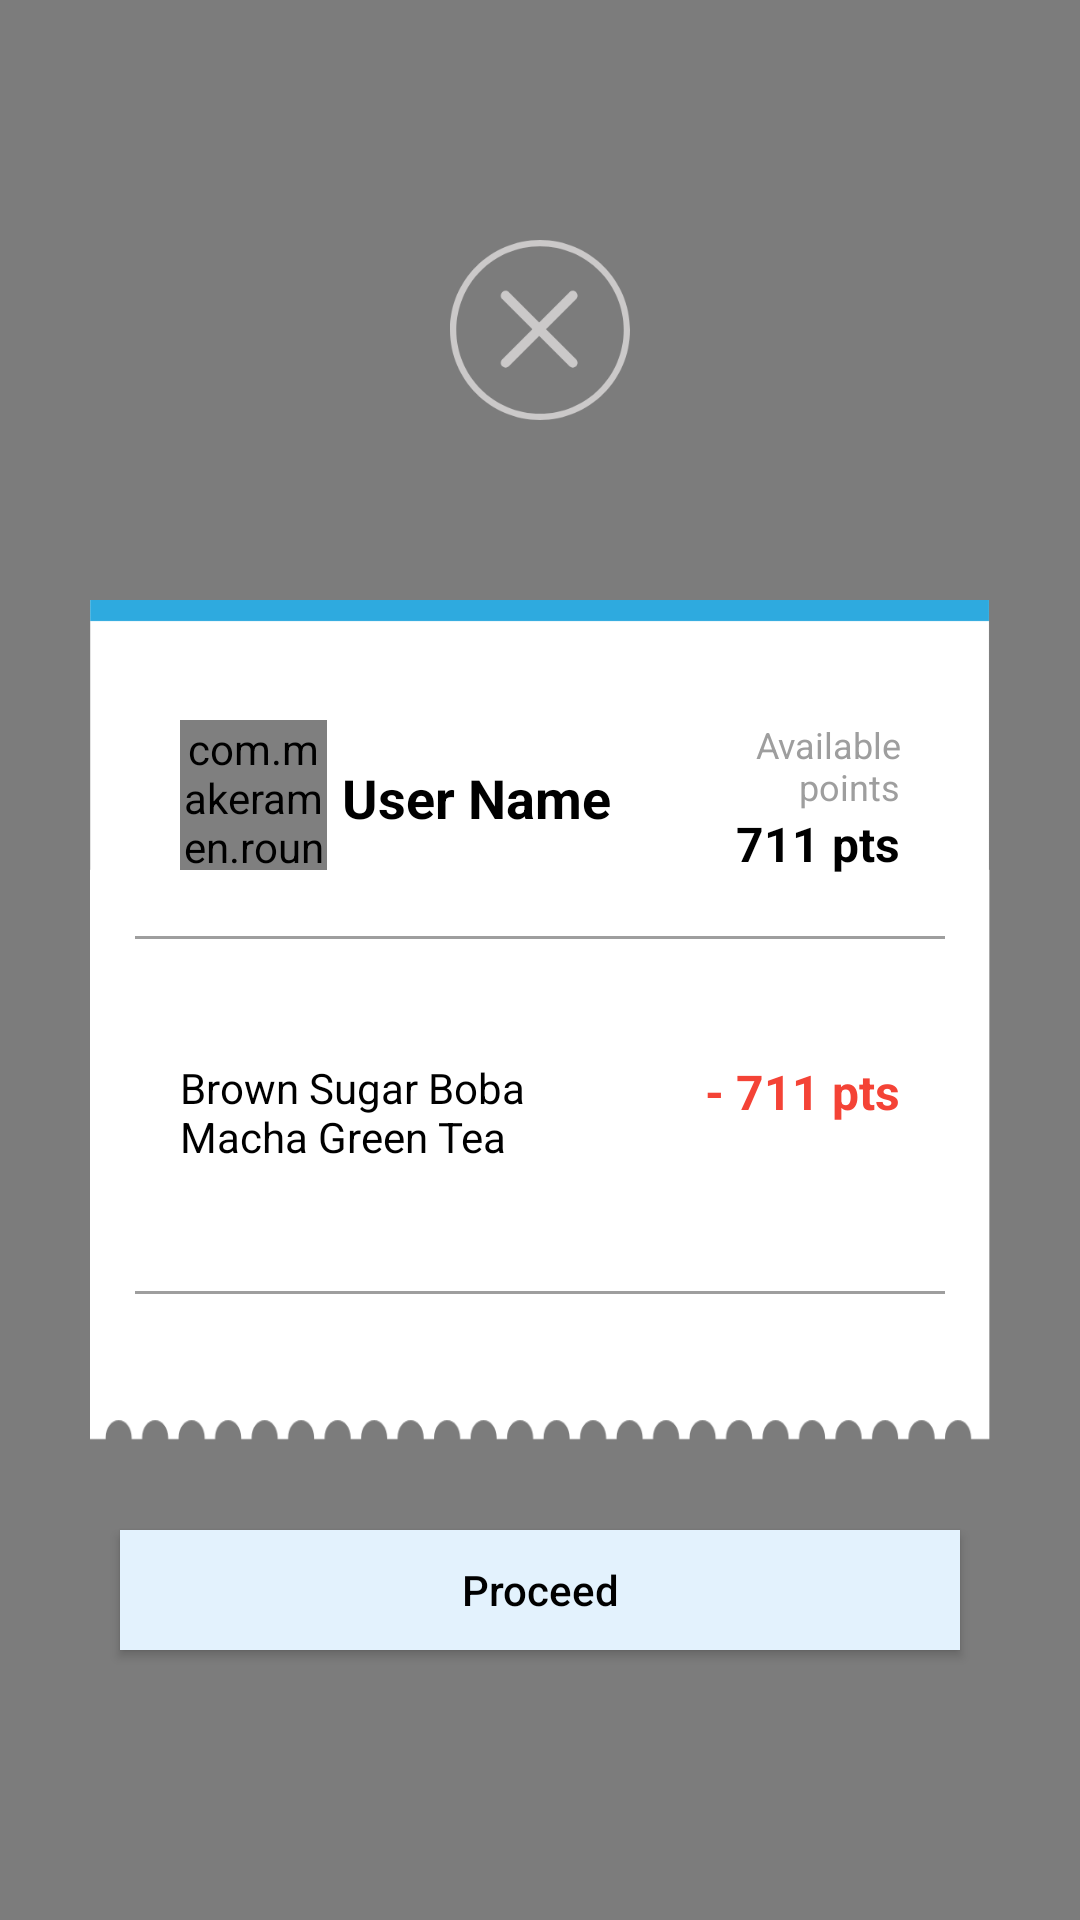

Screen size 1080px×1920px. Icon name, then its box in pixels as (x1, y1, x2, y2):
redemption close: (450, 240, 630, 420)
